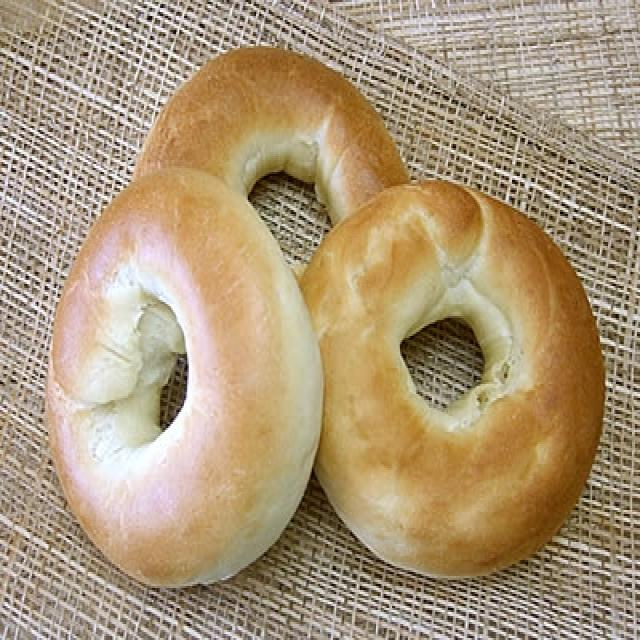面包点心: (21, 36, 603, 600)
